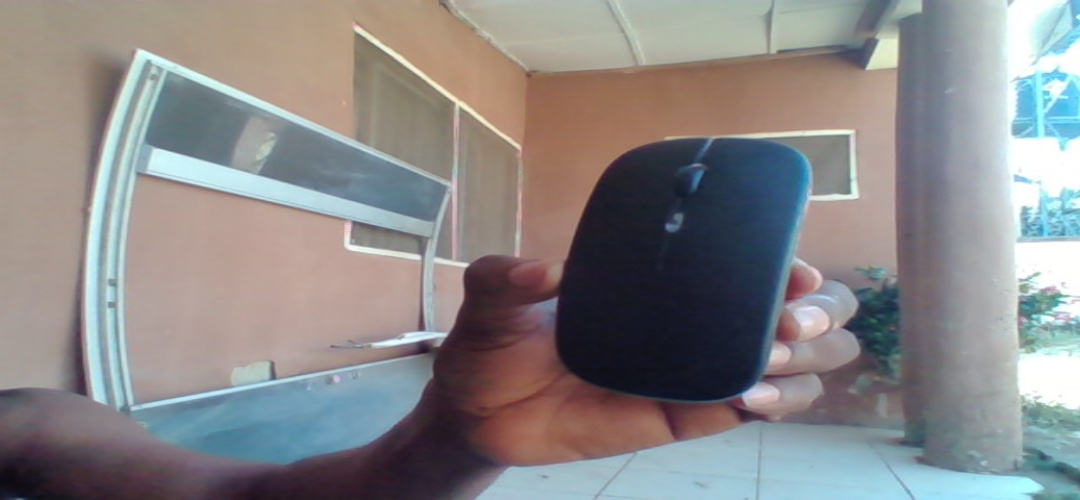wireless_mouse: (534, 127, 816, 404)
